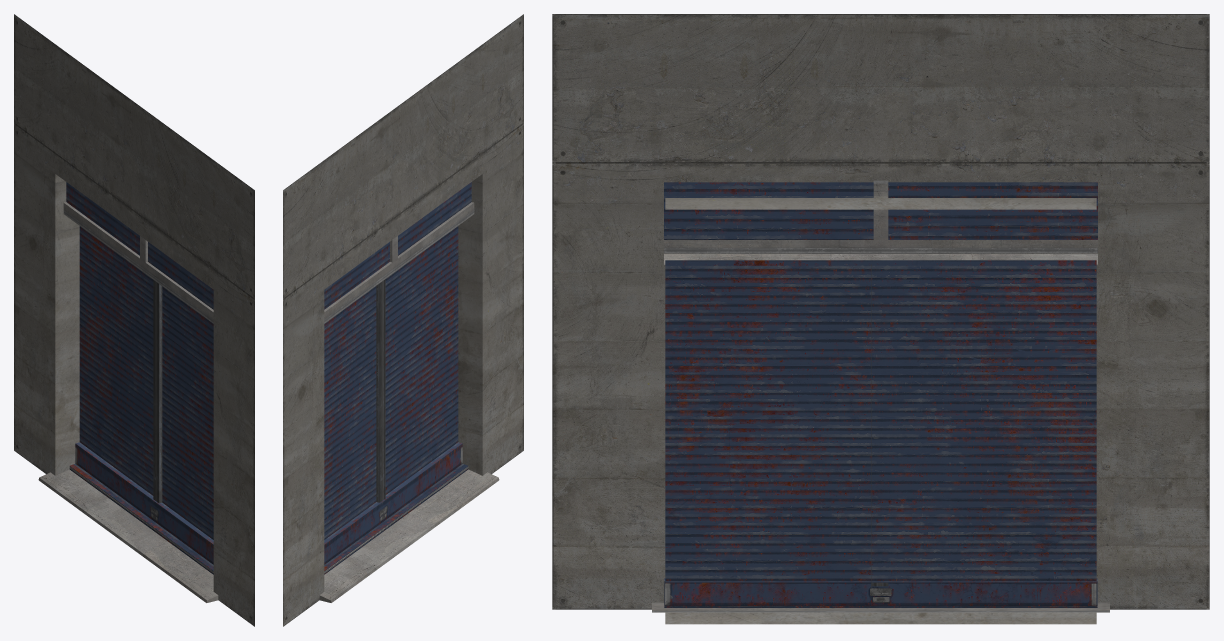
Rendered from CP_Wall_Roller_Shutters_04.fbx.
3 renders of one model, left to right at view 1: azimuth 30°, elevation 25°; view 2: azimuth 150°, elevation 25°; view 3: azimuth 270°, elevation 25°, orthographic. The views are drawn at different scales.
Parts seen in each view (by area): view 1: CP_Wall_Roller_Shutters_04; view 2: CP_Wall_Roller_Shutters_04; view 3: CP_Wall_Roller_Shutters_04.
Part boxes in pixels (left/top/right/bottom): CP_Wall_Roller_Shutters_04: left=14, top=14, right=254, bottom=626; CP_Wall_Roller_Shutters_04: left=283, top=14, right=523, bottom=626; CP_Wall_Roller_Shutters_04: left=552, top=14, right=1209, bottom=624.
Size of the model in its own units: 38.65 by 400 by 400.
